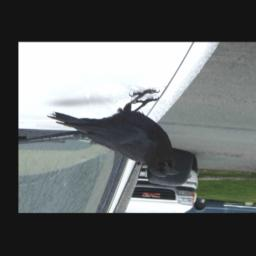Crow: (48, 88, 178, 178)
